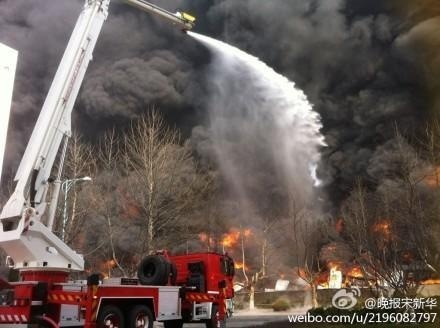fire: (315, 260, 360, 288)
